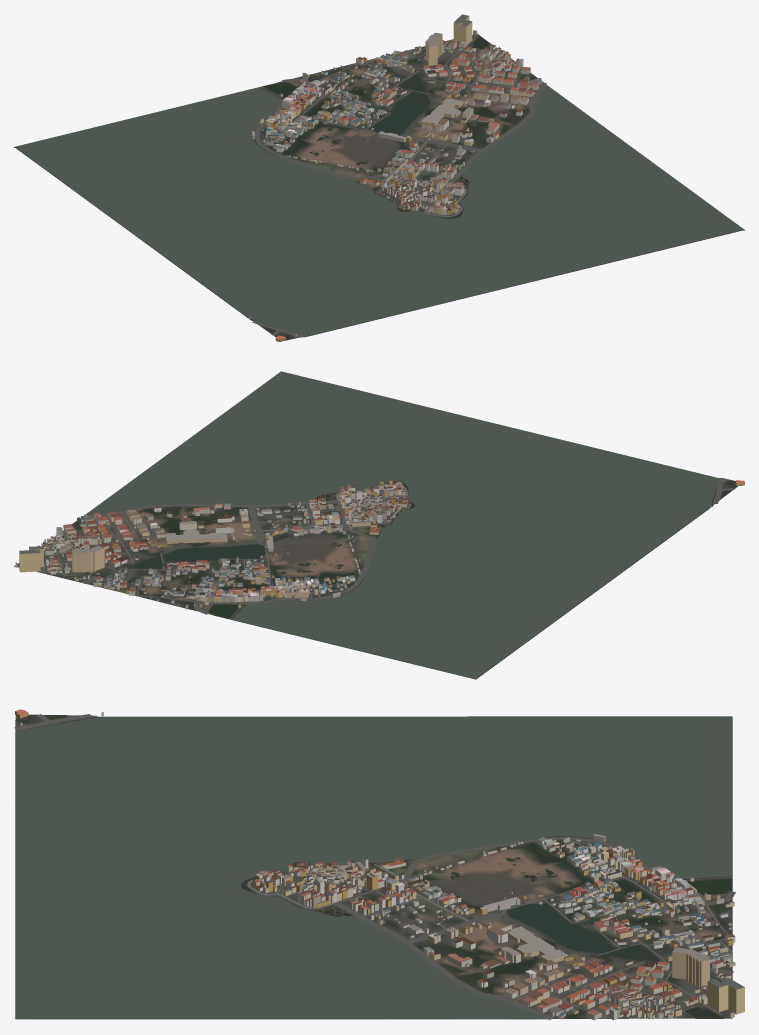
3 views of the same model, one above another, from view 1: azimuth 30°, elevation 25°; view 2: azimuth 150°, elevation 25°; view 3: azimuth 270°, elevation 25° (orthographic). The views are drawn at different scales.
Visible parts, largest first — view 1: water, buildings, ground, roads; view 2: water, ground, buildings, roads; view 3: water, buildings, ground, roads.
Part boxes in pixels (x1,y1,x2,y2): water: (15, 37, 743, 336); buildings: (248, 14, 541, 342); ground: (14, 34, 744, 341); roads: (251, 37, 546, 337); water: (44, 371, 719, 678); ground: (14, 394, 738, 679); buildings: (15, 478, 744, 609); roads: (37, 477, 734, 618); water: (16, 716, 732, 1018); buildings: (15, 709, 744, 1020); ground: (15, 714, 732, 1019); roads: (14, 714, 735, 1019).
Bounding box in the file's own units: 1418 × 60.7 × 1429.
